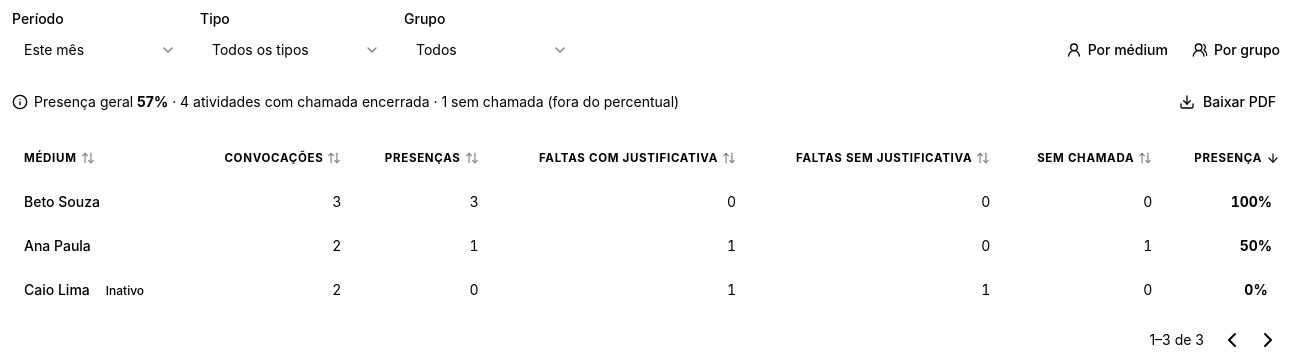
it: Relatório de assiduidade — por grupo › no Pro: "Por grupo" busca com agrupar=grupo e mostra os grupos
The image size is (1304, 364).
Check: the text "Ana Paula" is shown, box [24,237,91,254]
What coordinates should you click on to do the following:
click the radio button labelled "Por grupo"
I would click on:
 (1236, 50)
Its box is [1180,32,1292,68].
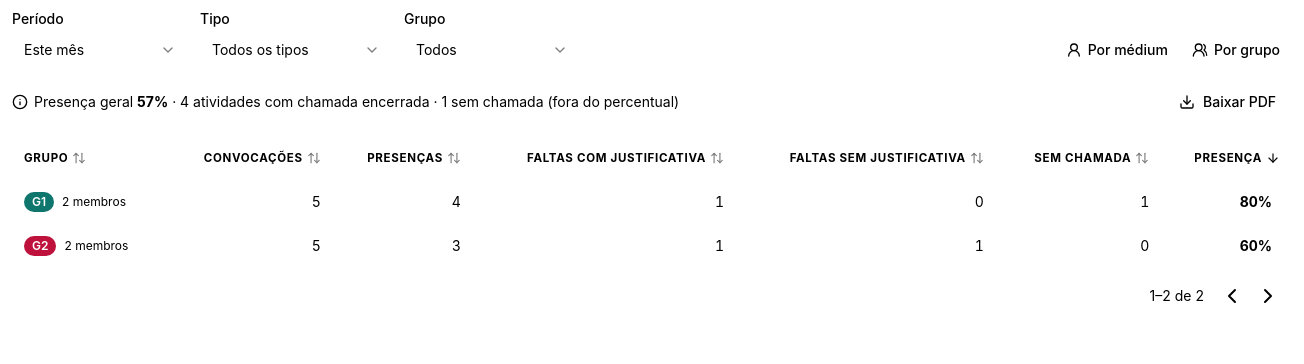
Check: the text "G2" is shown, box [32,238,48,254]
Check: the text "2 membros" is shown 2 times, box [62,194,126,210]; [64,238,128,254]
